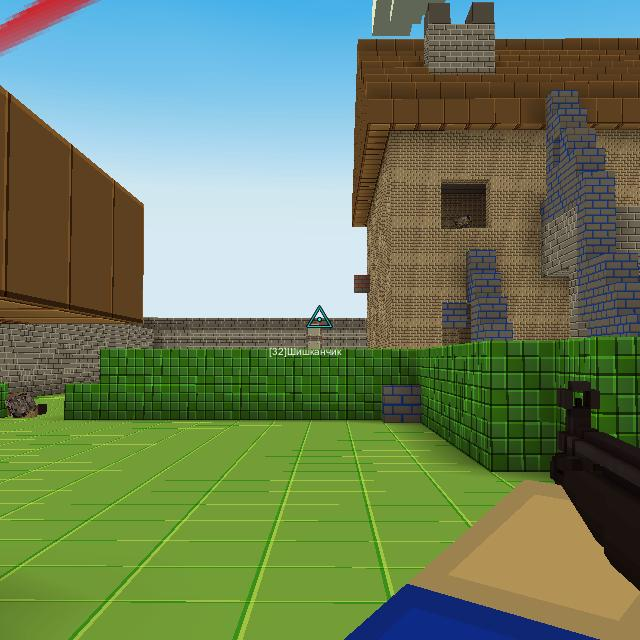enemy: (453, 214, 472, 228)
